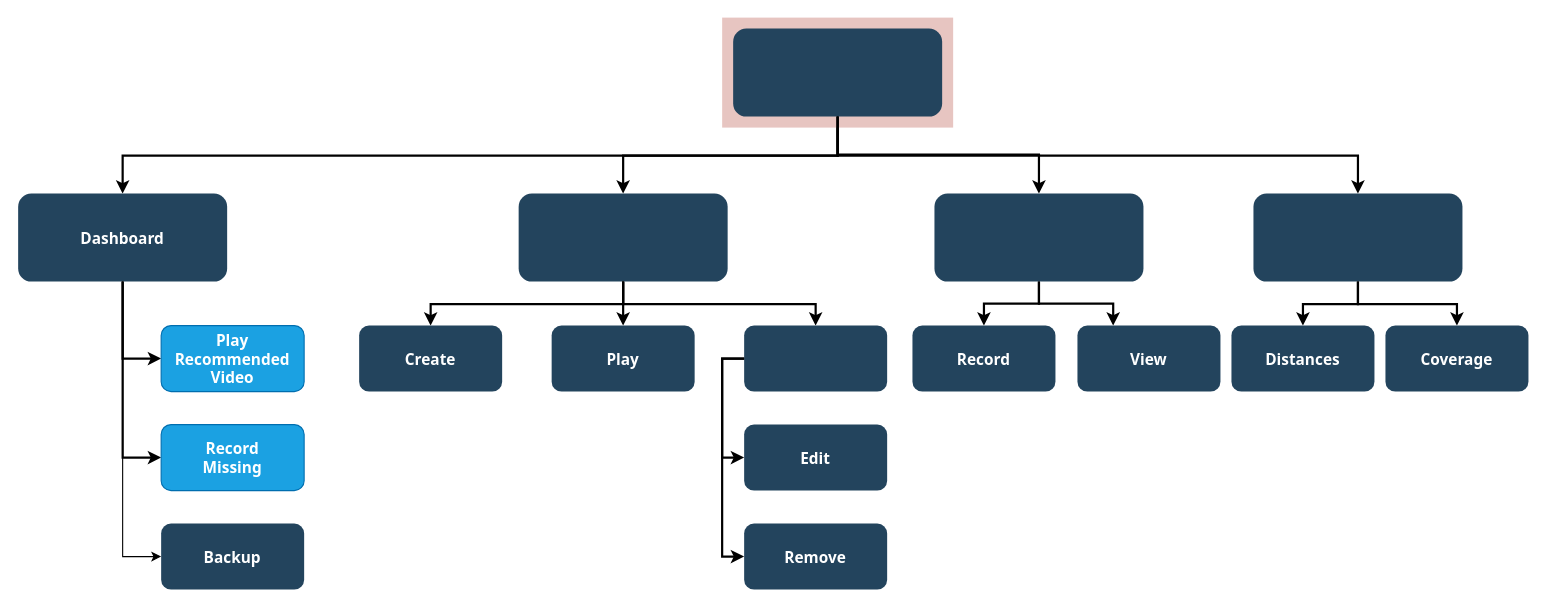
Some shapes in this 1547 by 607 pixel diagram are drawn without their labels. The shapes that lost their labels are listed below. From the top down, each one's centre as x and y in pixels, then its label:
point 837,72: Home
point 622,237: Training Videos
point 1038,237: Training Sessions
point 1357,237: Reporting
point 815,358: Manage
